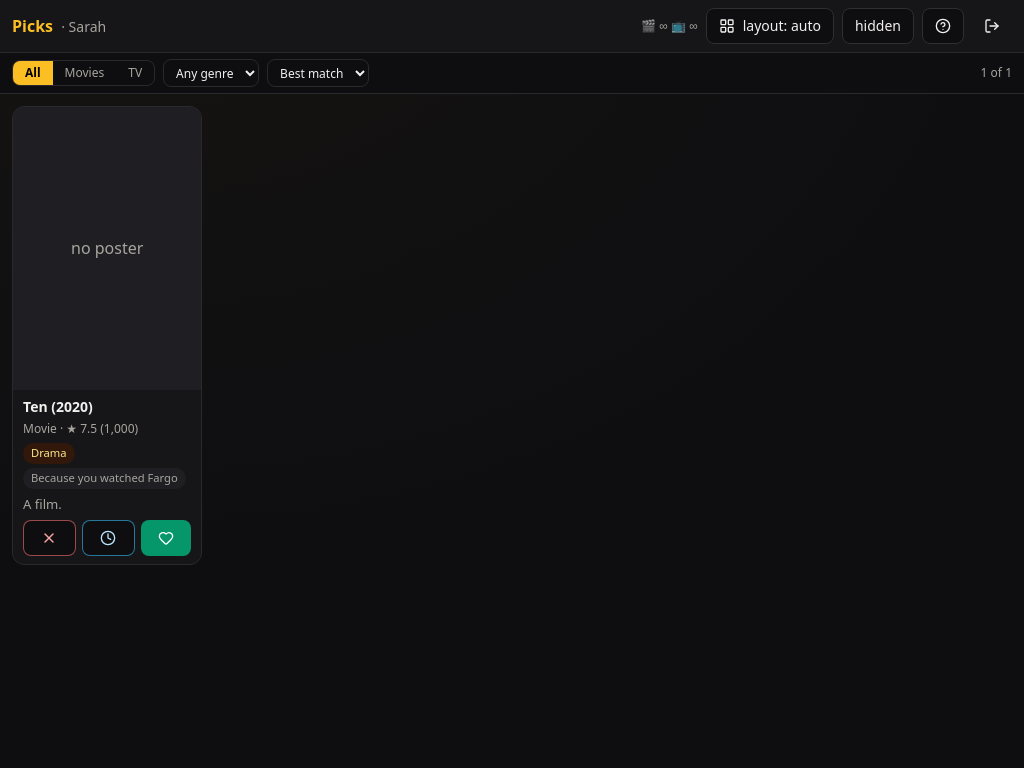
Test: MePage confirmations › tells the person their request went in, from the grid
Expected: the text "Ten (2020)" is shown, [23,397,93,416]
Click the button named "Request: Ten" at (166, 538), box [141,520,191,556]
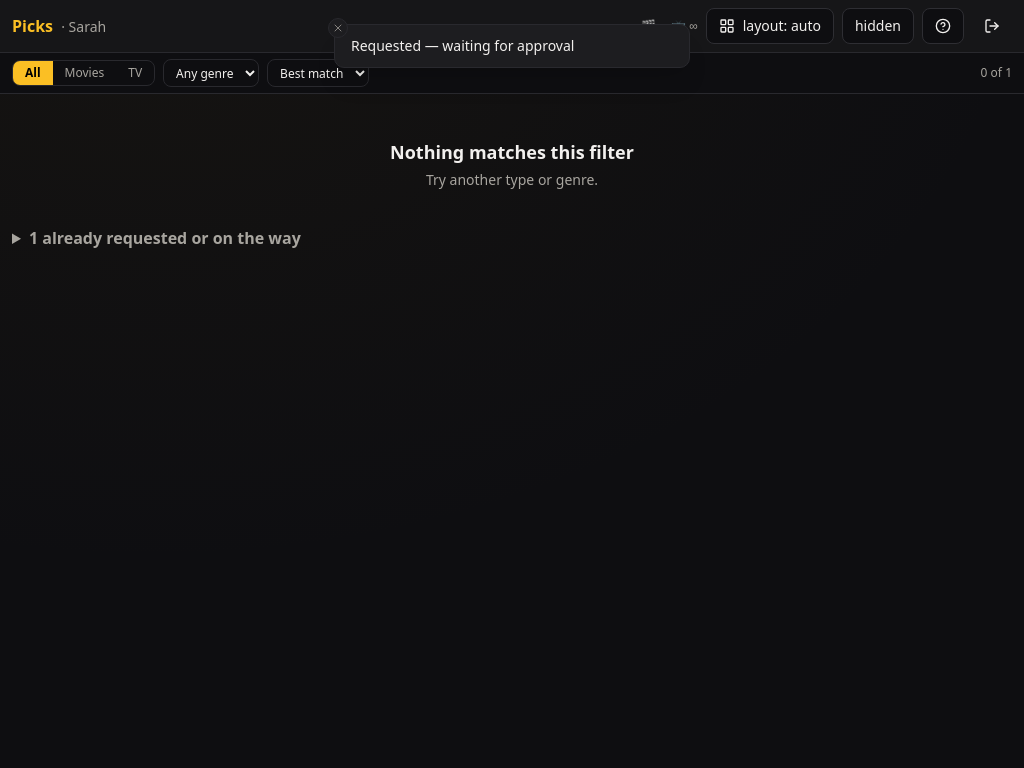
Now the text "Requested — waiting for approval" is shown, box [351,37,574,54]
